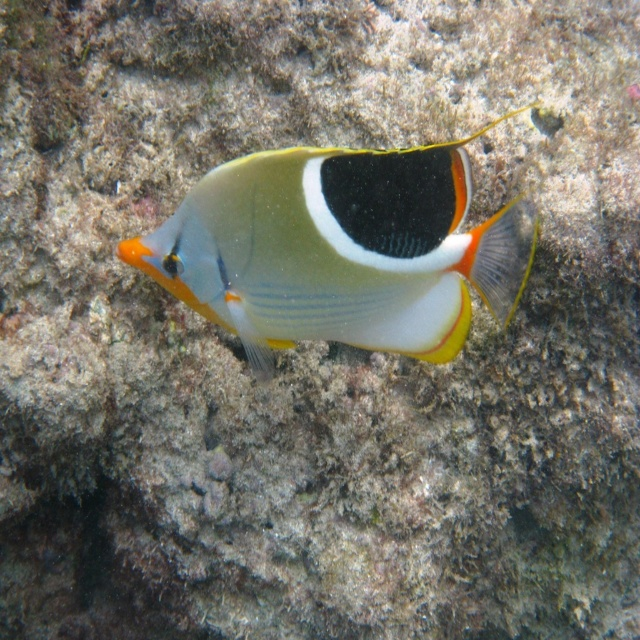Fish: (116, 116, 543, 390)
